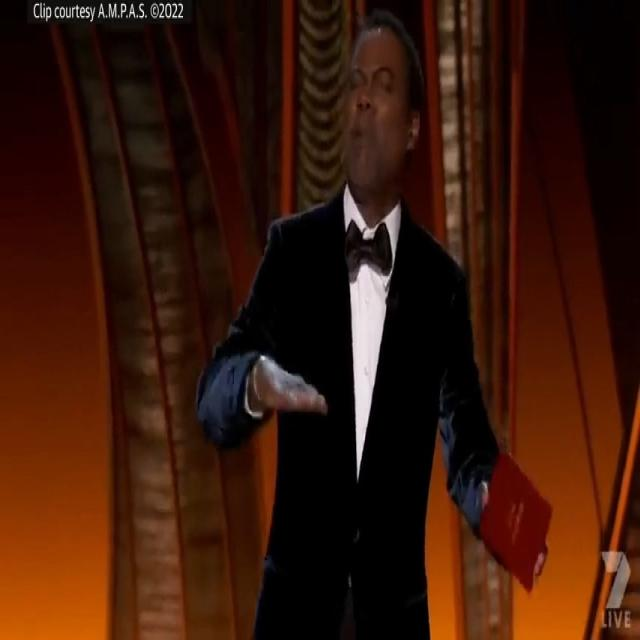non-fight: (188, 1, 568, 640)
